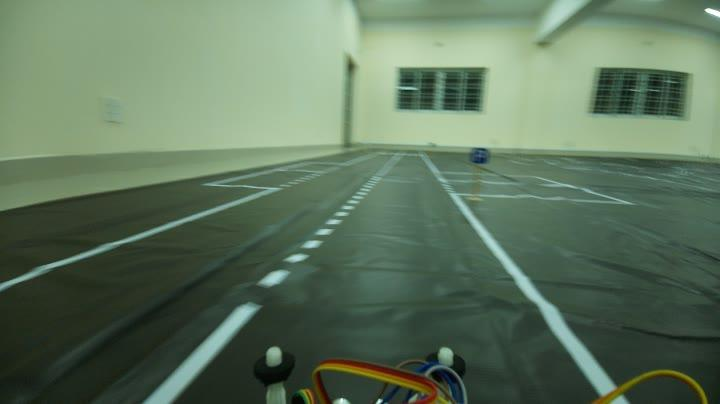parking: (466, 145, 491, 169)
